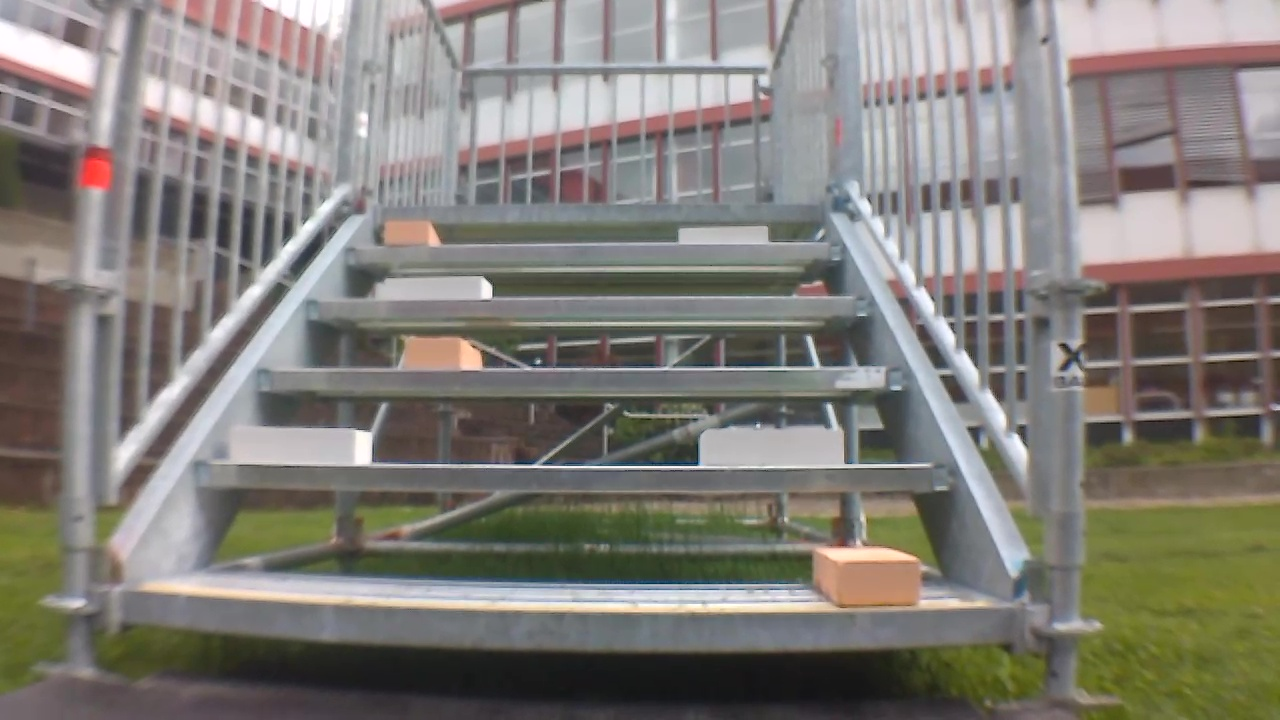brick: (812, 548, 918, 607), (232, 426, 371, 463), (700, 430, 844, 465), (384, 275, 491, 299), (406, 339, 480, 369), (678, 225, 767, 242), (386, 222, 438, 244)
edge: (126, 589, 1017, 650), (197, 461, 958, 492), (258, 368, 908, 392), (308, 295, 877, 317), (345, 242, 845, 261), (375, 203, 822, 220)
stairs: (49, 1, 1109, 704)
steps: (113, 192, 1029, 666)
